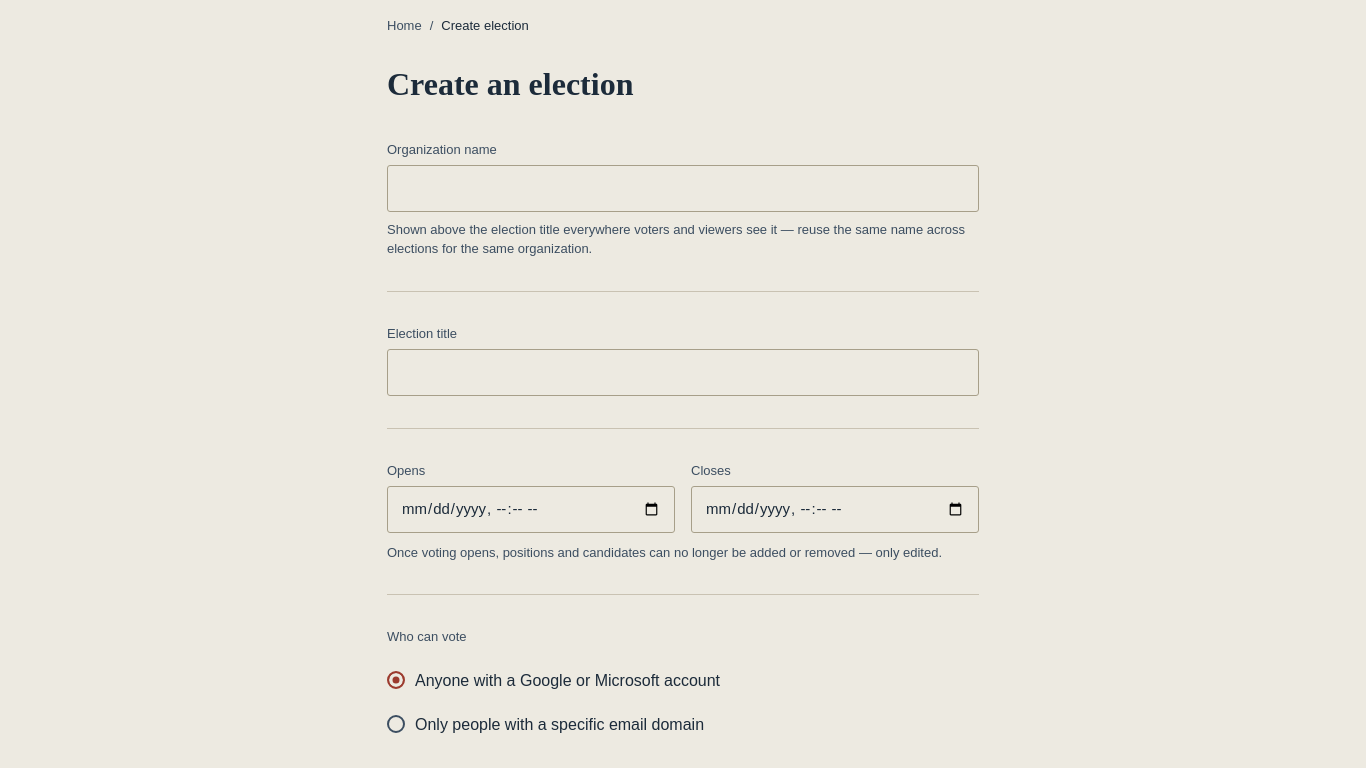
Test case: CreateElectionForm validation › blocks submit when a position has no title
The width and height of the screenshot is (1366, 768).
Type "Riverside Co-op" into the field labelled "Organization name". click: x=683, y=188
box: [387,165,979,212]
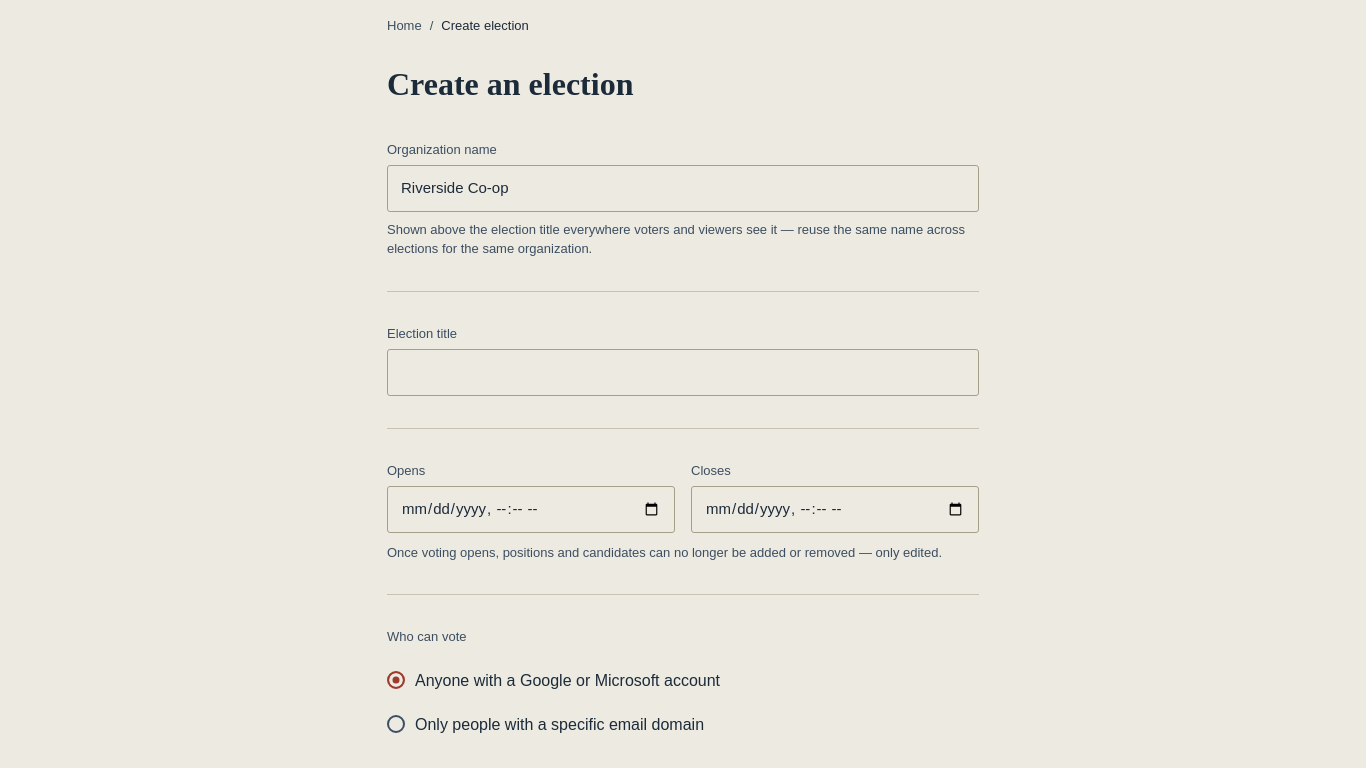
Type "  Board election  " into the field labelled "Election title". click: x=683, y=372
box: [387,349,979,396]
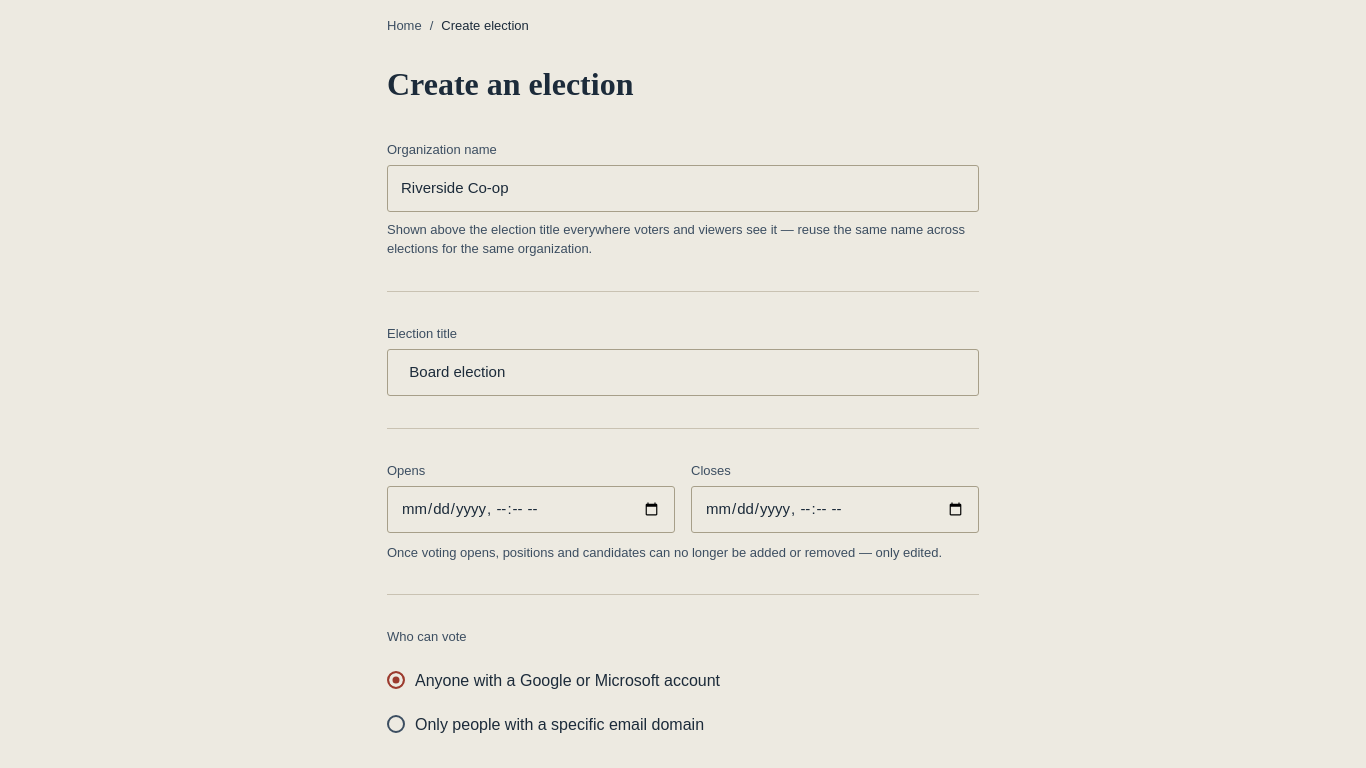
Type "2099-01-01T09:00" into the field labelled "Opens". click: x=531, y=509
box: [387,486,675,532]
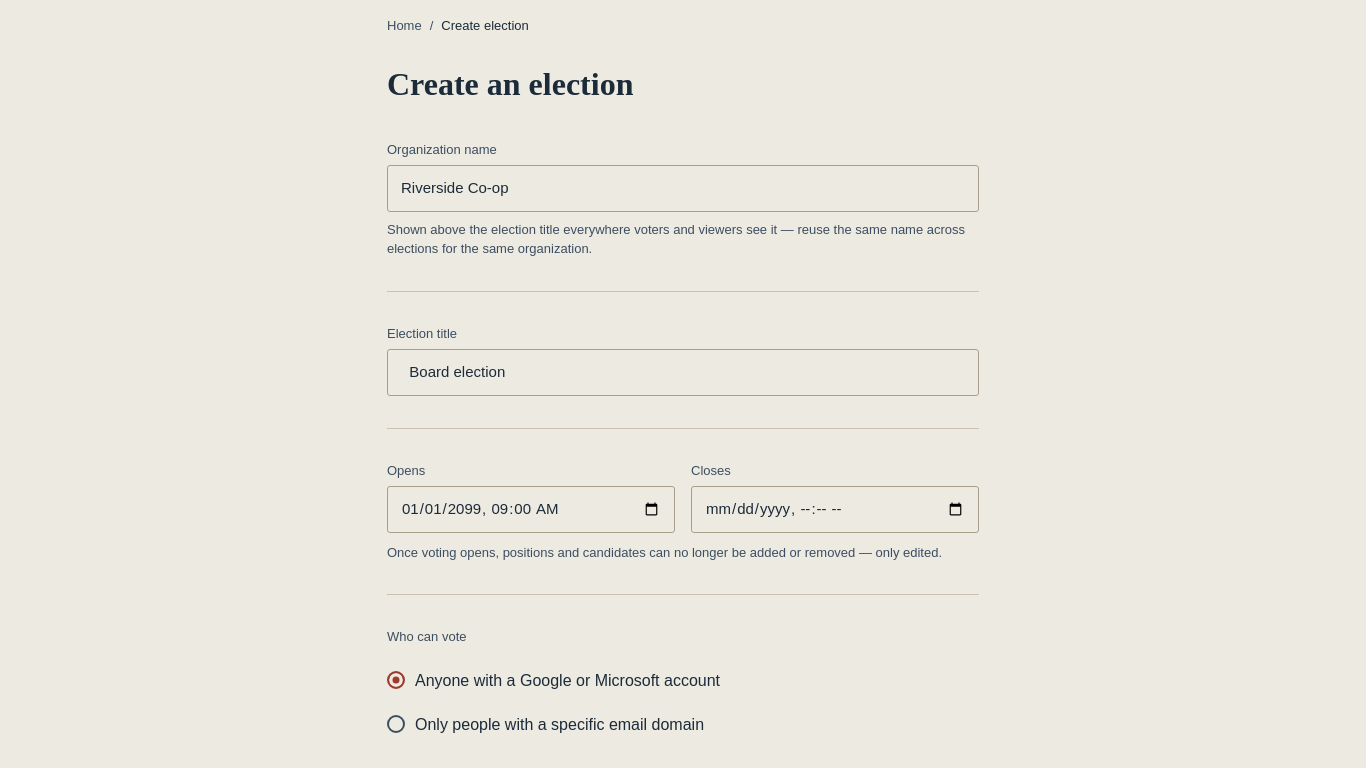
Type "2099-01-15T17:00" into the field labelled "Closes". click: x=835, y=509
box: [691,486,979,532]
(page scrolled)
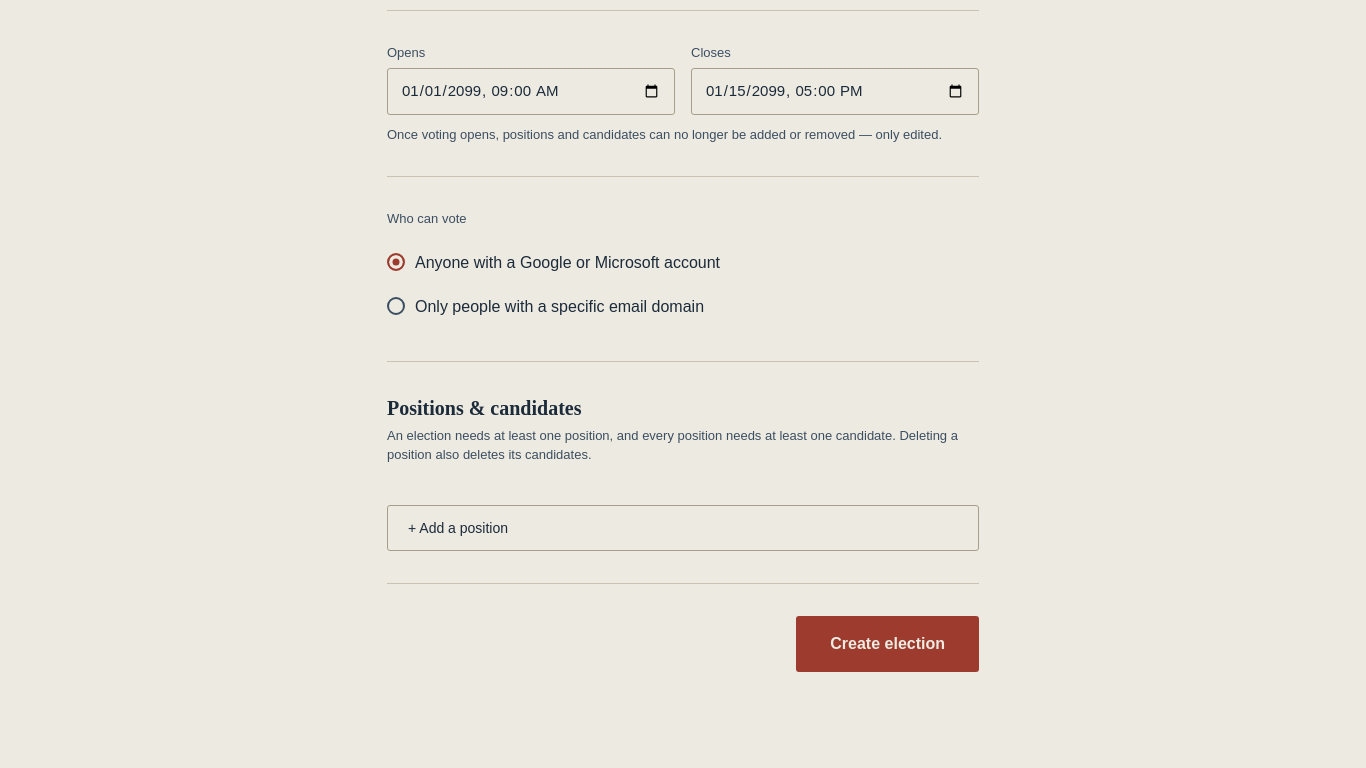
Click the button "+ Add a position". click: x=458, y=528
box: [387,504,979,550]
(page scrolled)
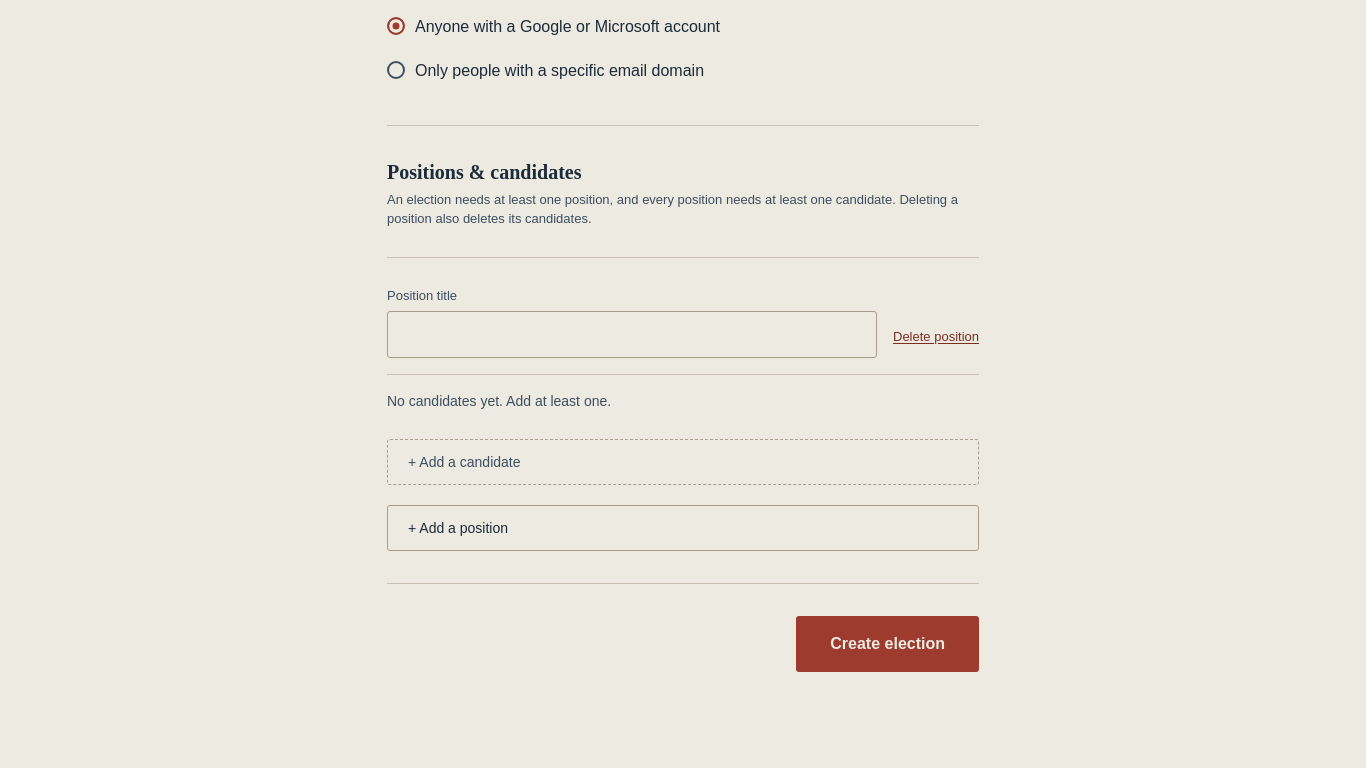
Click the button "Create election". click: x=888, y=644
box: [796,616,979,672]
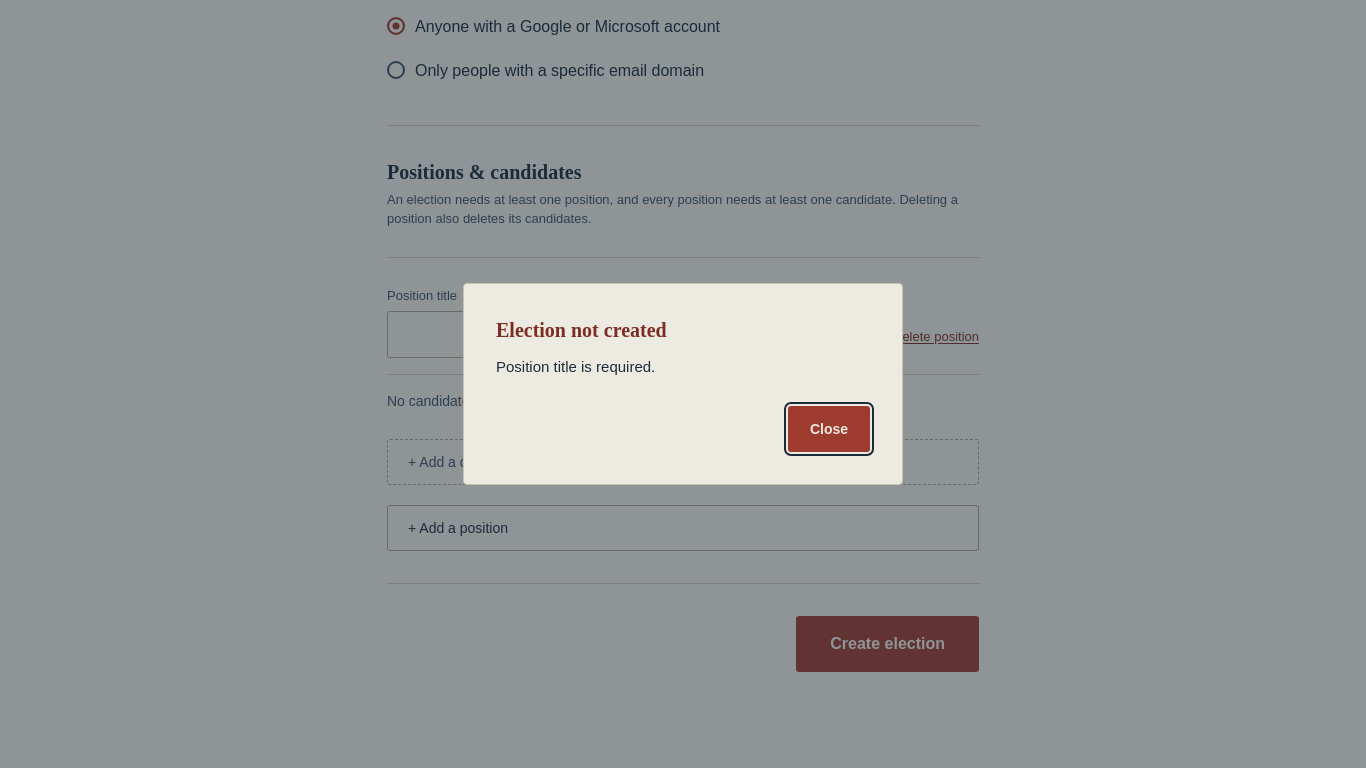
Expected: the dialog shows "Position title is required.", [496,358,655,375]
